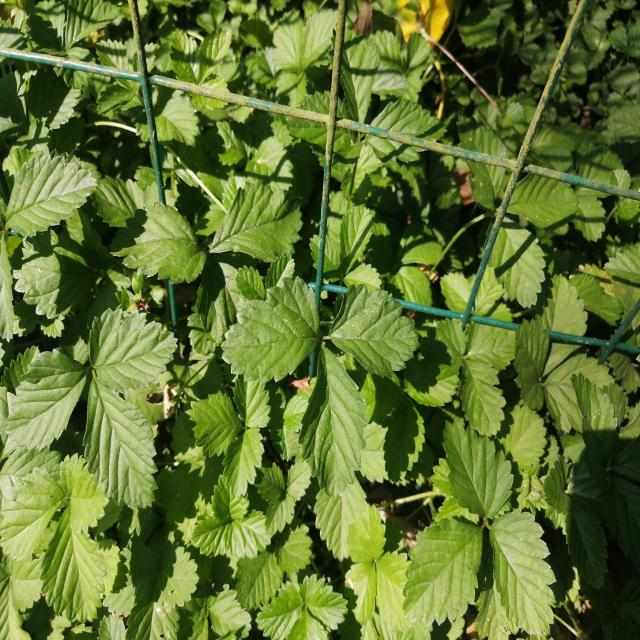Mock_strawberry: (207, 281, 436, 475), (0, 315, 192, 492), (405, 424, 573, 624)
